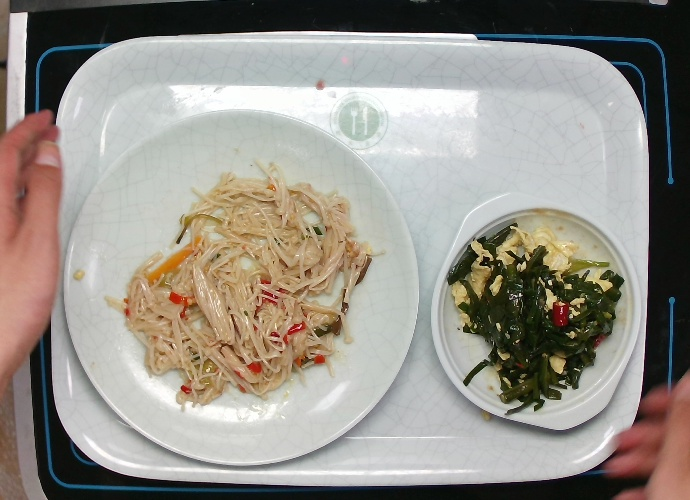JYsf-Da_Yuan_Pan: (58, 102, 424, 468)
JYsf-Shuang_Er_Pan: (426, 182, 646, 434)
